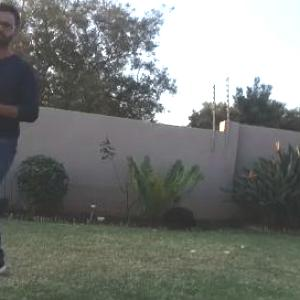follow: (0, 0, 44, 293)
